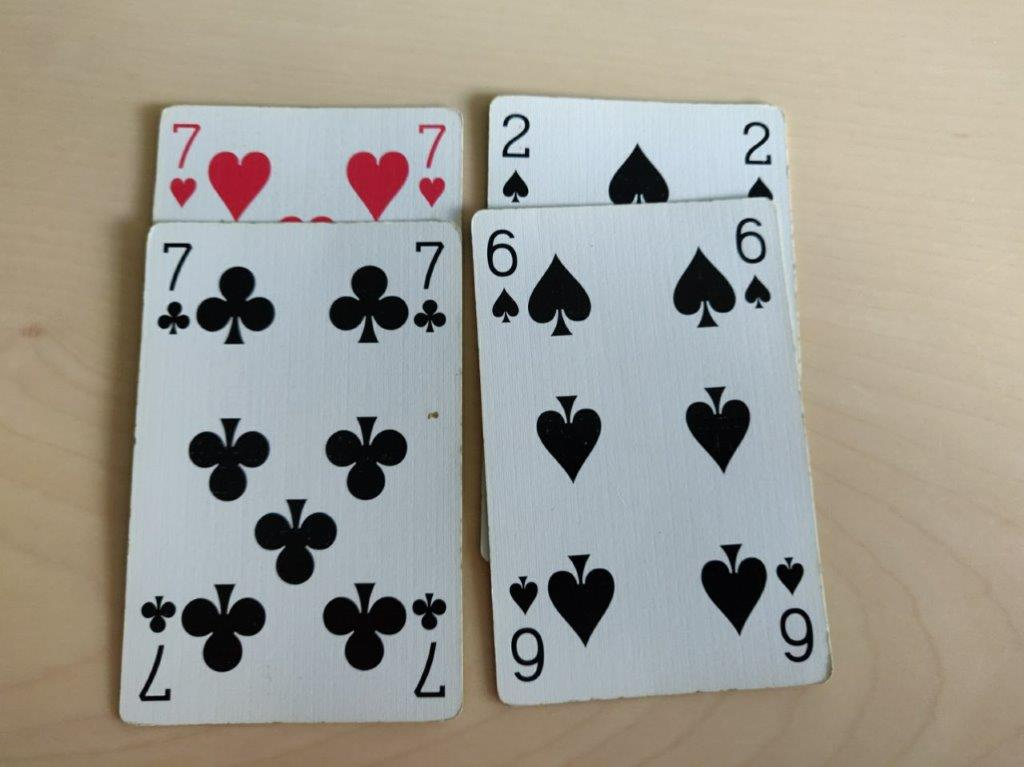2S: (497, 109, 534, 205)
6S: (481, 224, 522, 326), (734, 209, 775, 311)
7C: (154, 236, 196, 337), (410, 234, 452, 335)
7H: (164, 116, 205, 212), (411, 114, 452, 210)
